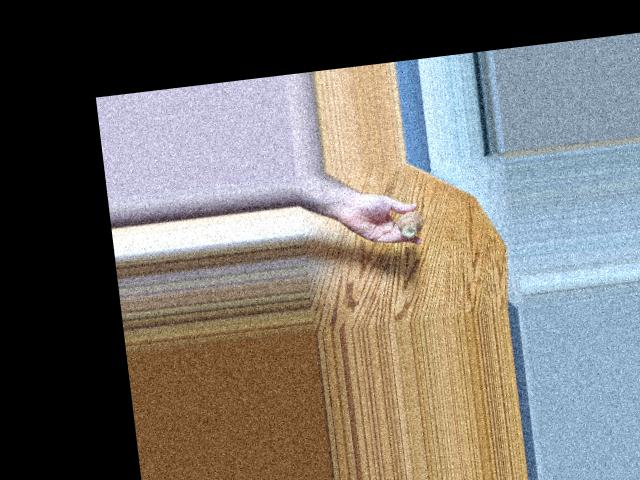sweet_potato: (396, 209, 426, 237)
